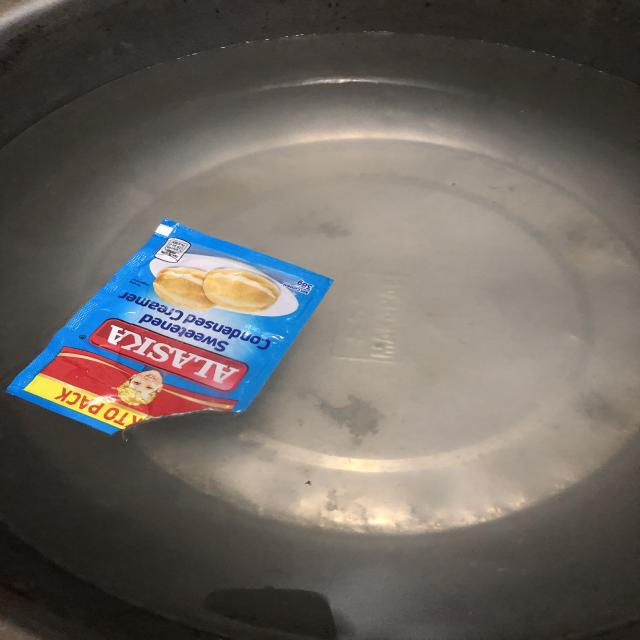Plastic Wrapper: (7, 219, 333, 434)
